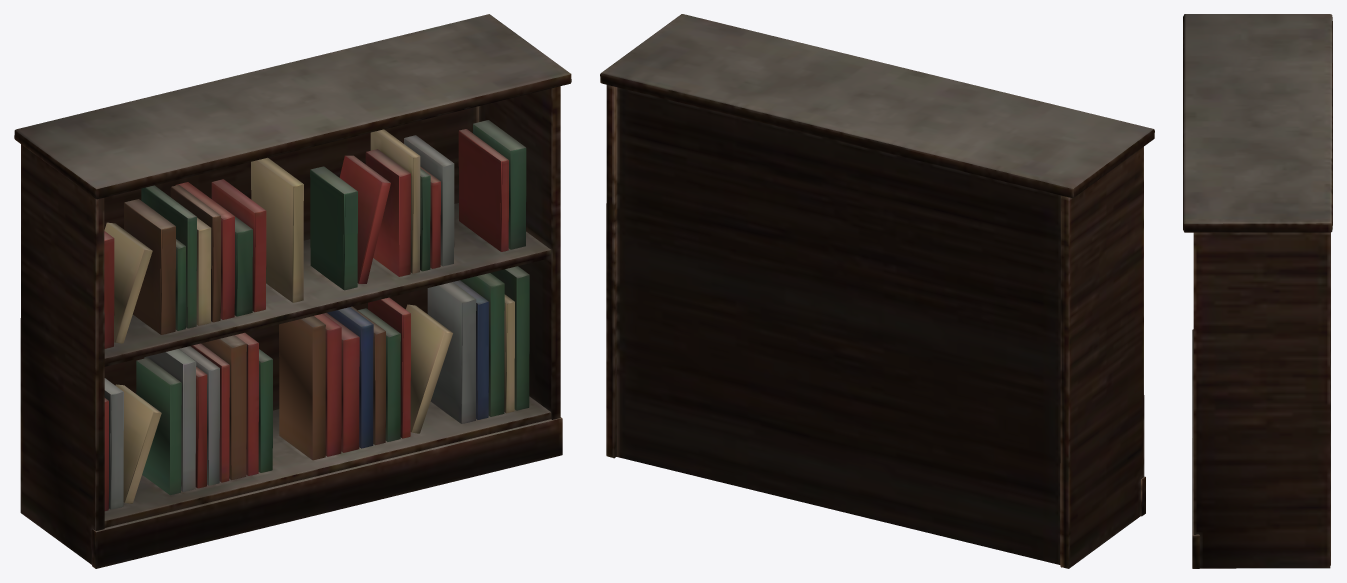
The model's file is bookcase_low-low.glb.
3 renders of one model, left to right at view 1: azimuth 30°, elevation 25°; view 2: azimuth 150°, elevation 25°; view 3: azimuth 270°, elevation 25°, orthographic. The views are drawn at different scales.
Parts seen in each view (by area): view 1: bookcase_low-low; view 2: bookcase_low-low; view 3: bookcase_low-low.
Boxes of the visible parts, bbox=[...] form: bookcase_low-low: bbox=[14, 14, 571, 568]; bookcase_low-low: bbox=[600, 14, 1154, 568]; bookcase_low-low: bbox=[1183, 14, 1332, 568].
Size of the model in its own units: 1.23 by 0.95 by 0.37.
Materials: 1 (1 with a texture image).
